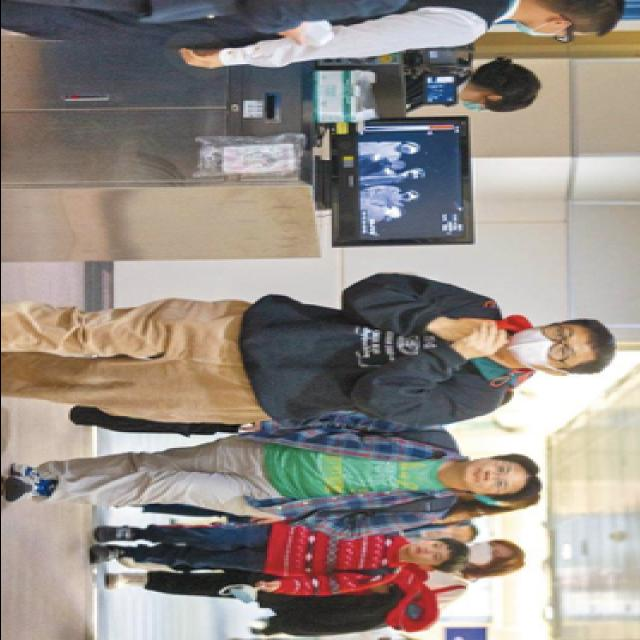mask: (506, 324, 580, 369), (460, 542, 506, 570)
no_mask: (460, 456, 516, 499), (405, 540, 448, 566)
